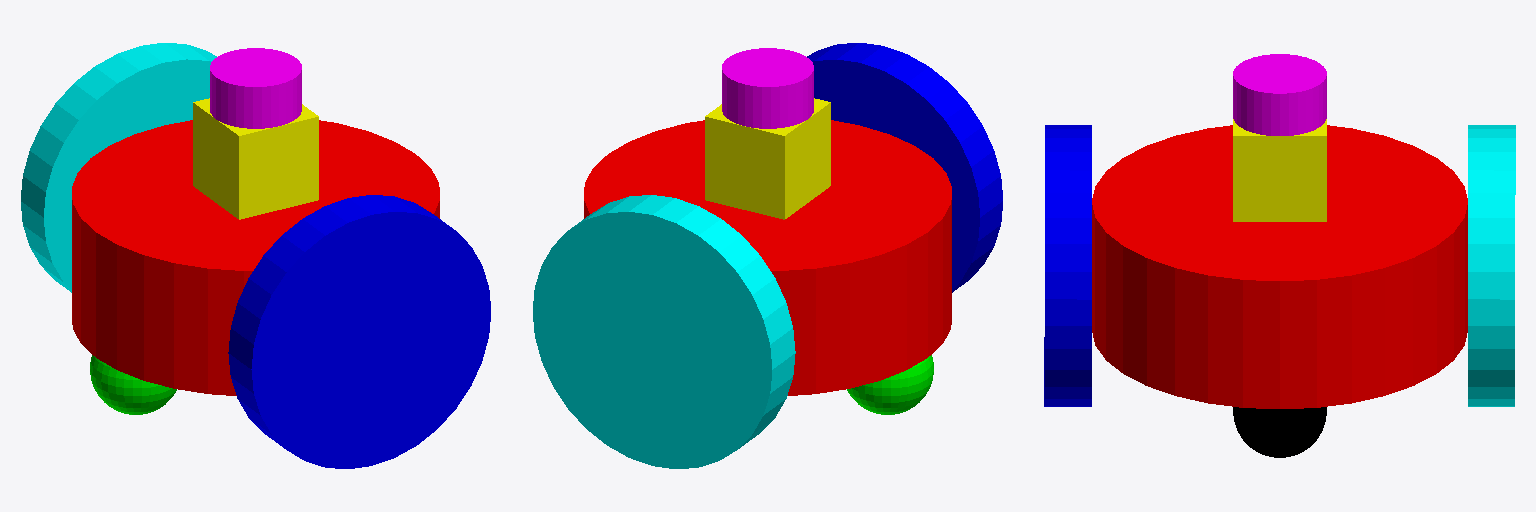
The robot description file, URDF, robot "diff_drive_robot":
<!-- ロボットの名前 -->
<robot name="diff_drive_robot">
  <!-- ロボットの基準とするベースリンク -->
  <link name="base_link"/>

  <!-- ボディの作成 -->
  <link name="body">
    <visual>
      <geometry>
        <cylinder radius="0.2" length="0.15"/>
      </geometry>
      <origin xyz="0 0 0" rpy="0 0 0"/>
      <material name="red">
        <color rgba="1.0 0.0 0.0 1.0"/>
      </material>
    </visual>
    <collision>
      <origin rpy="0 0 0" xyz="0 0 0.0"/>
      <geometry>
        <cylinder radius="0.2" length="0.15"/>]
      </geometry>
    </collision>
    <!--慣性-->
    <inertial>
        <mass value="1.0"/>
        <inertia ixx="0.011875000000000002" iyy="0.011875000000000002" izz="0.020000000000000004" ixy="0" ixz="0" iyz="0"/>
    </inertial>
  </link>

  <!-- タイヤの作成 -->
  <link name="wheel_left">
    <visual>
      <geometry>
        <cylinder radius="0.15" length="0.05"/>
      </geometry>
      <origin xyz="0 0 0" rpy="0 0 0"/>
      <material name="blue">
        <color rgba="0.0 0.0 1.0 1.0"/>
      </material>
    </visual>
    <collision>
      <origin rpy="0 0 0" xyz="0 0 0.0"/>
      <geometry>
        <cylinder radius="0.15" length="0.05"/>]
      </geometry>
    </collision>
    <!--慣性-->
    <inertial>
        <mass value="0.5"/>
        <inertia ixx="0.002916666666666667" iyy="0.002916666666666667" izz="0.005625" ixy="0" ixz="0" iyz="0"/>
    </inertial>
  </link>


  <!-- タイヤの作成 -->
  <link name="wheel_right">
    <visual>
      <geometry>
        <cylinder radius="0.15" length="0.05"/>
      </geometry>
      <origin xyz="0 0 0" rpy="0 0 0"/>
      <material name="cyan">
        <color rgba="0.0 1.0 1.0 1.0"/>
      </material>
    </visual>
    <collision>
      <origin rpy="0 0 0" xyz="0 0 0.0"/>
      <geometry>
        <cylinder radius="0.15" length="0.05"/>
      </geometry>
    </collision>
    <!--慣性-->
    <inertial>
        <mass value="0.5"/>
        <inertia ixx="0.002916666666666667" iyy="0.002916666666666667" izz="0.005625" ixy="0" ixz="0" iyz="0"/>
    </inertial>
  </link>


  <!-- キャスターの作成 -->
  <link name="caster_forward">
    <visual>
      <geometry>
        <sphere radius="0.05"/>
      </geometry>
      <origin xyz="0 0 0" rpy="0 0 0"/>
      <material name="green">
        <color rgba="0.0 1.0 0.0 1.0"/>
      </material>
    </visual>
    <collision>
      <origin rpy="0 0 0" xyz="0 0 0.0"/>
      <geometry>
        <sphere radius="0.05"/>
      </geometry>
    </collision>
    <!--慣性-->
    <inertial>
        <mass value="0.5"/>
        <inertia ixx="3.000e-4" iyy="3.000e-4" izz="3.000e-4" ixy="0" ixz="0" iyz="0"/>
    </inertial>
  </link>
  
  <!-- キャスターの作成 -->
  <link name="caster_backward">
    <visual>
      <geometry>
        <sphere radius="0.05"/>
      </geometry>
      <origin xyz="0 0 0" rpy="0 0 0"/>
      <material name="black">
        <color rgba="0.0 0.0 0.0 1.0"/>
      </material>
    </visual>
    <collision>
      <origin rpy="0 0 0" xyz="0 0 0.0"/>
      <geometry>
        <sphere radius="0.05"/>
      </geometry>
    </collision>
    <!--慣性-->
    <inertial>
        <mass value="0.5"/>
        <inertia ixx="3.000e-4" iyy="3.000e-4" izz="3.000e-4" ixy="0" ixz="0" iyz="0"/>
    </inertial>
  </link>

  <!-- Lidar台の作成 -->
  <link name="lidar_base">
    <visual>
      <geometry>
        <box size="0.1 0.1 0.1"/>
      </geometry>
      <origin xyz="0 0 0" rpy="0 0 0"/>
      <material name="yellow">
        <color rgba="1.0 1.0 0.0 1.0"/>
      </material>
    </visual>
    <collision>
      <origin rpy="0 0 0" xyz="0 0 0.0"/>
      <geometry>
        <box size="0.1 0.1 0.1"/>
      </geometry>
    </collision>
    <!--慣性-->
    <inertial>
        <mass value="0.15"/>
        <inertia ixx="0.25" iyy="0.25" izz="0.25" ixy="0" ixz="0" iyz="0"/>
    </inertial>
  </link>

  <!-- Lidarの作成 -->
  <link name="lidar_link">
    <visual>
      <geometry>
        <cylinder radius="0.05" length="0.05"/>
      </geometry>
      <origin xyz="0 0 0" rpy="0 0 0"/>
      <material name="purple">
        <color rgba="1.0 0.0 1.0 1.0"/>
      </material>
    </visual>
    <collision>
      <origin rpy="0 0 0" xyz="0 0 0.0"/>
      <geometry>
        <cylinder radius="0.05" length="0.05"/>
      </geometry>
    </collision>
    <!--慣性-->
    <inertial>
        <mass value="0.15"/>
        <inertia ixx="0.125" iyy="0.125" izz="0.188" ixy="0" ixz="0" iyz="0"/>
    </inertial>
  </link>
<!-- ################# ジョイント設定 ################## -->

	<joint name="base_joint" type="fixed">
    <origin xyz="0 0 0.15" rpy="0 0 0"/>
    <parent link="base_link"/>
    <child link="body"/>
 	</joint>

	<joint name="wheel_left_joint" type="continuous">
    <axis xyz="0 0 1"/>
    <origin xyz="0 -0.225 0" rpy="1.57 0 0"/>
    <parent link="body"/>
    <child link="wheel_left"/>
 	</joint>

	<joint name="wheel_right_joint" type="continuous">
    <axis xyz="0 0 1"/>
    <origin xyz="0 0.225 0" rpy="1.57 0 0"/>
    <parent link="body"/>
    <child link="wheel_right"/>
	</joint>

	<joint name="caster_forward_joint" type="fixed">
    <origin xyz="-0.15 0 -0.1" rpy="0 0 0"/>
    <parent link="body"/>
    <child link="caster_forward"/>
	</joint>

	<joint name="caster_backward_joint" type="fixed">
    <origin xyz="0.15 0 -0.1" rpy="0 0 0"/>
    <parent link="body"/>
    <child link="caster_backward"/>
	</joint>

	<joint name="lidar_base_joint" type="fixed">
    <origin xyz="0.0 0.0 0.125" rpy="0 0 0"/>
    <parent link="body"/>
    <child link="lidar_base"/>
	</joint>

	<joint name="lidar_joint" type="fixed">
    <origin xyz="0.0 0.0 0.2" rpy="0 0 0"/>
    <parent link="body"/>
    <child link="lidar_link"/>
	</joint>


<!-- ################# Gazebo上の設定 ################## -->
	<!-- 各パーツの情報を設定 -->
	<gazebo reference="body">
		<mu1>0.2</mu1>
		<mu2>0.2</mu2>
		<material>Gazebo/Red</material>
	</gazebo>

	<gazebo reference="wheel_left">
		<mu1>0.2</mu1>
		<mu2>0.2</mu2>
		<material>Gazebo/Blue</material>
	</gazebo>

	<gazebo reference="wheel_right">
		<mu1>0.2</mu1>
		<mu2>0.2</mu2>
		<material>Gazebo/Blue</material>
	</gazebo>

	<gazebo reference="caster_forward">
		<mu1>0.0</mu1>
		<mu2>0.0</mu2>
		<material>Gazebo/Green</material>
	</gazebo>

	<gazebo reference="caster_backward">
		<mu1>0.0</mu1>
		<mu2>0.0</mu2>
		<material>Gazebo/Black</material>
	</gazebo>
  
	<gazebo reference="lidar_base">
		<mu1>0.0</mu1>
		<mu2>0.0</mu2>
		<material>Gazebo/Yellow</material>
	</gazebo>

	<gazebo reference="lidar_link">
		<mu1>0.0</mu1>
		<mu2>0.0</mu2>
		<material>Gazebo/Purple</material>
	</gazebo>

<!--差動駆動プラグインをロードするための追加要素-->
  <gazebo>
    <!--差動駆動プラグインを指定-->
    <plugin name="differential_drive_controller" filename="libgazebo_ros_diff_drive.so">
      <!--left_wheel_jointとright_wheel_jointをそれぞれ左関節右関節に指定-->
      <leftJoint>wheel_left_joint</leftJoint>
      <rightJoint>wheel_right_joint</rightJoint>
      <!--台座であるbase_linkをrobotBaseFrameに指定-->
      <robotBaseFrame>base_link</robotBaseFrame>
      <!--トレッドを0.25m，車輪直径0.07mとする-->
      <wheelSeparation>0.45</wheelSeparation>
      <wheelDiameter>0.15</wheelDiameter>
      <!--車輪の状態を配信する設定にする-->
      <publishWheelJointState>true</publishWheelJointState>
    </plugin>
  </gazebo>


  <!-- Lidar(ydlidarを例にパラメータを設定) -->
  <!-- GPU rayというタイプで作成 -->
  <gazebo reference="lidar_link">
    <sensor type="gpu_ray" name="head_ydlidar_sensor">
      <pose>0 0 0 0 0 0</pose>
      <visualize>true</visualize>
      <update_rate>40</update_rate>
      <ray>
        <scan>
          <horizontal>
            <samples>700</samples>
            <resolution>1</resolution>
            <min_angle>-3.14159265358979</min_angle>
            <max_angle>3.14159265358979</max_angle>
          </horizontal>
        </scan>
        <range>
          <min>0.12</min>
          <max>8</max>
          <resolution>0.72</resolution>
        </range>
        <noise>
          <type>gaussian</type>
          <!-- Noise parameters based on published spec for Hokuyo laser
               achieving "+-30mm" accuracy at range < 10m.  A mean of 0.0m and
               stddev of 0.01m will put 99.7% of samples within 0.03m of the true
               reading. -->
          <mean>0.0</mean>
          <stddev>0.01</stddev>
        </noise>
      </ray>
      <plugin name="gazebo_ros_head_ydlidar_controller" filename="libgazebo_ros_gpu_laser.so">
        <topicName>/scan</topicName>
        <frameName>lidar_link</frameName>
      </plugin>
    </sensor>
  </gazebo>

</robot>

--- Facts derived from the render (not from the file) ---
3 views of the same robot in one strip: view 1: azimuth 30°, elevation 25°; view 2: azimuth 150°, elevation 25°; view 3: azimuth 270°, elevation 25° (orthographic).
Robot: diff_drive_robot — 8 links, 7 joints (2 continuous, 5 fixed); root link base_link; default pose: all joints at 0.
Visible links, largest first — view 1: wheel_left, body, wheel_right, lidar_base, lidar_link, caster_forward; view 2: wheel_right, body, wheel_left, lidar_base, lidar_link, caster_forward; view 3: body, wheel_left, wheel_right, lidar_base, lidar_link, caster_backward.
Link boxes in pixels (box(x1,y1,x2,y2)): wheel_left: box(228, 195, 490, 468); body: box(72, 120, 439, 395); wheel_right: box(21, 43, 216, 292); lidar_base: box(193, 98, 318, 219); lidar_link: box(210, 48, 301, 128); caster_forward: box(90, 355, 176, 414); wheel_right: box(533, 195, 795, 468); body: box(584, 120, 951, 395); wheel_left: box(807, 43, 1002, 292); lidar_base: box(705, 98, 830, 219); lidar_link: box(722, 48, 813, 128); caster_forward: box(847, 355, 933, 414); body: box(1092, 125, 1467, 408); wheel_left: box(1044, 125, 1091, 406); wheel_right: box(1468, 125, 1515, 406); lidar_base: box(1233, 119, 1326, 221); lidar_link: box(1233, 54, 1326, 135); caster_backward: box(1233, 407, 1326, 457).
Size in the robot's own frame: 0.4 by 0.5002 by 0.375 metres.
Geometry: primitives only (box / cylinder / sphere), no mesh files.
